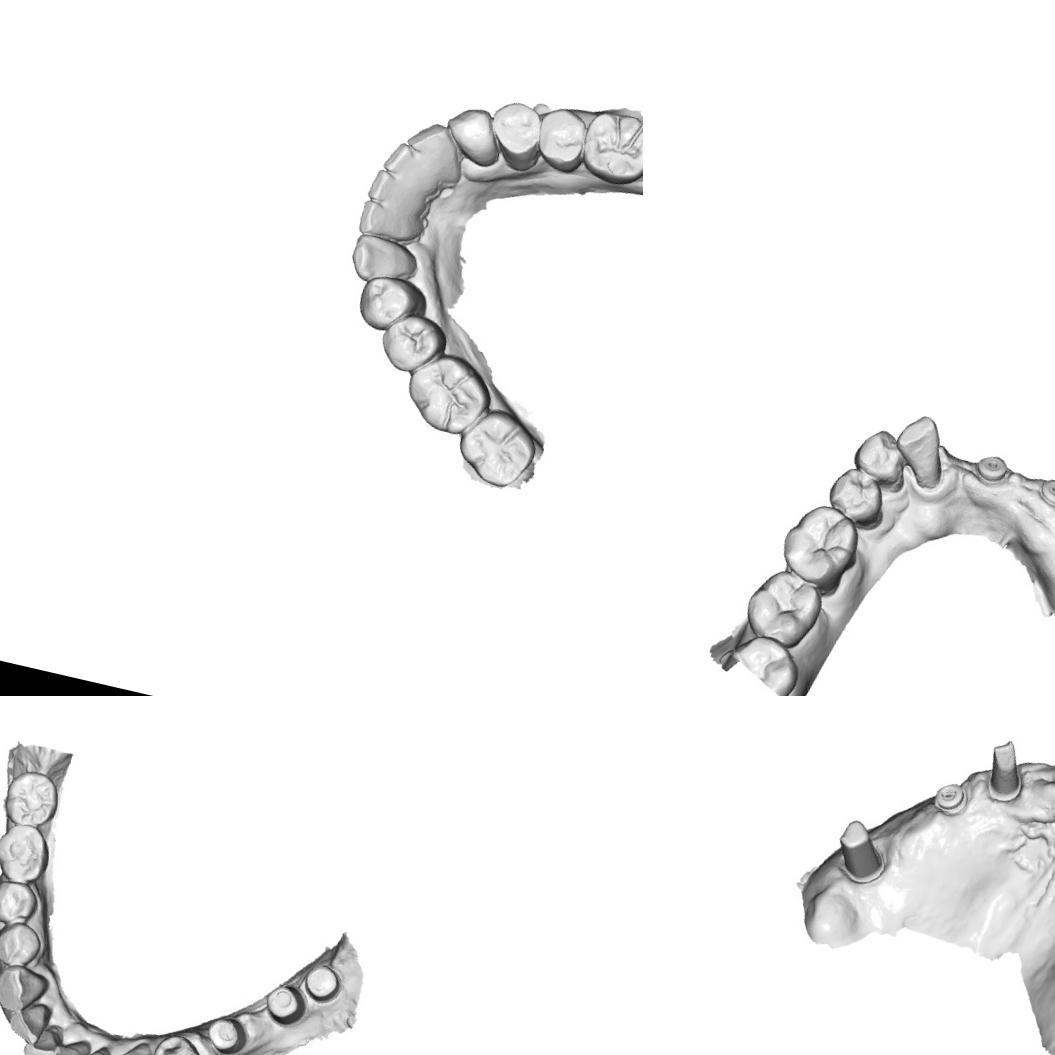abutment: (829, 815, 895, 890), (980, 736, 1032, 807), (260, 980, 311, 1029), (202, 1012, 252, 1055), (300, 960, 346, 1006)
canine: (436, 100, 512, 174), (888, 409, 955, 492), (345, 228, 424, 292), (0, 960, 51, 1018), (105, 1034, 166, 1055)
implant: (972, 452, 1011, 488), (1034, 475, 1055, 510)
implant_minus: (930, 778, 972, 821)
incisor: (356, 194, 430, 248), (402, 116, 460, 169), (4, 996, 50, 1048), (376, 136, 426, 182), (365, 167, 414, 211), (20, 1023, 64, 1055), (48, 1035, 91, 1055), (69, 1039, 116, 1055)
molar: (398, 345, 500, 442), (772, 497, 866, 600), (451, 402, 542, 493), (740, 562, 828, 652), (573, 105, 643, 193), (0, 766, 64, 833), (0, 818, 56, 890)
premolar: (350, 269, 432, 340), (480, 95, 552, 174), (374, 308, 450, 382), (820, 462, 893, 534), (846, 422, 916, 494), (530, 100, 593, 176), (0, 917, 46, 972), (0, 876, 42, 930), (147, 1029, 210, 1055)
